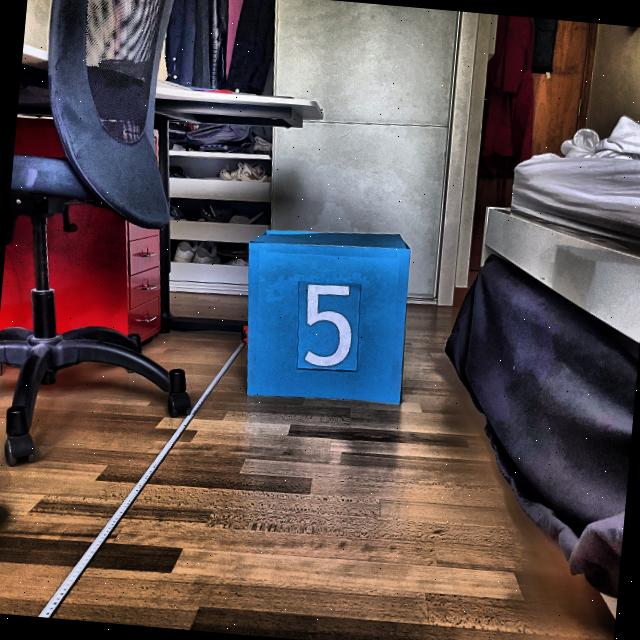blue box: (233, 222, 420, 410)
five: (296, 279, 360, 371)
